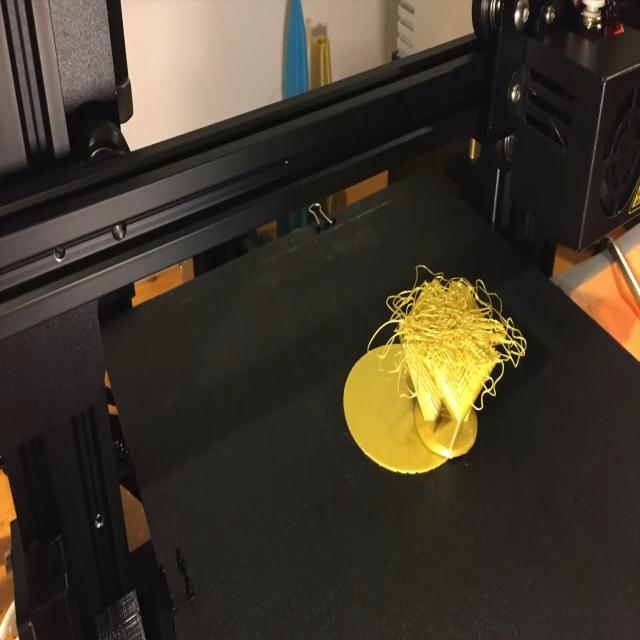spaghetti: (389, 261, 528, 389)
